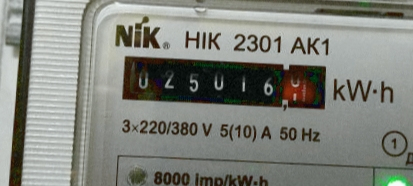0: (210, 68, 225, 92), (134, 67, 148, 90), (286, 67, 299, 88)
1: (235, 68, 247, 94), (288, 90, 296, 102)
2: (160, 66, 174, 90)
5: (185, 70, 197, 92)
6: (259, 73, 273, 98)
screen: (110, 44, 335, 118)
